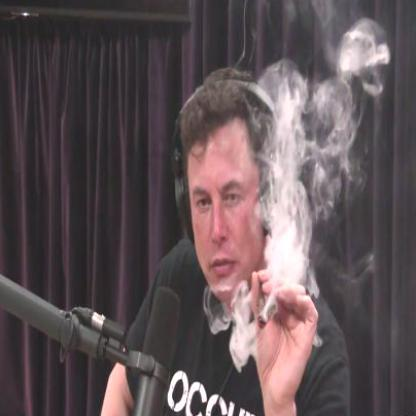cigarette: (258, 301, 277, 332)
person: (169, 80, 280, 415)
smoke: (260, 50, 313, 292), (304, 68, 364, 219), (342, 24, 390, 106), (229, 282, 257, 368), (204, 306, 228, 334)
